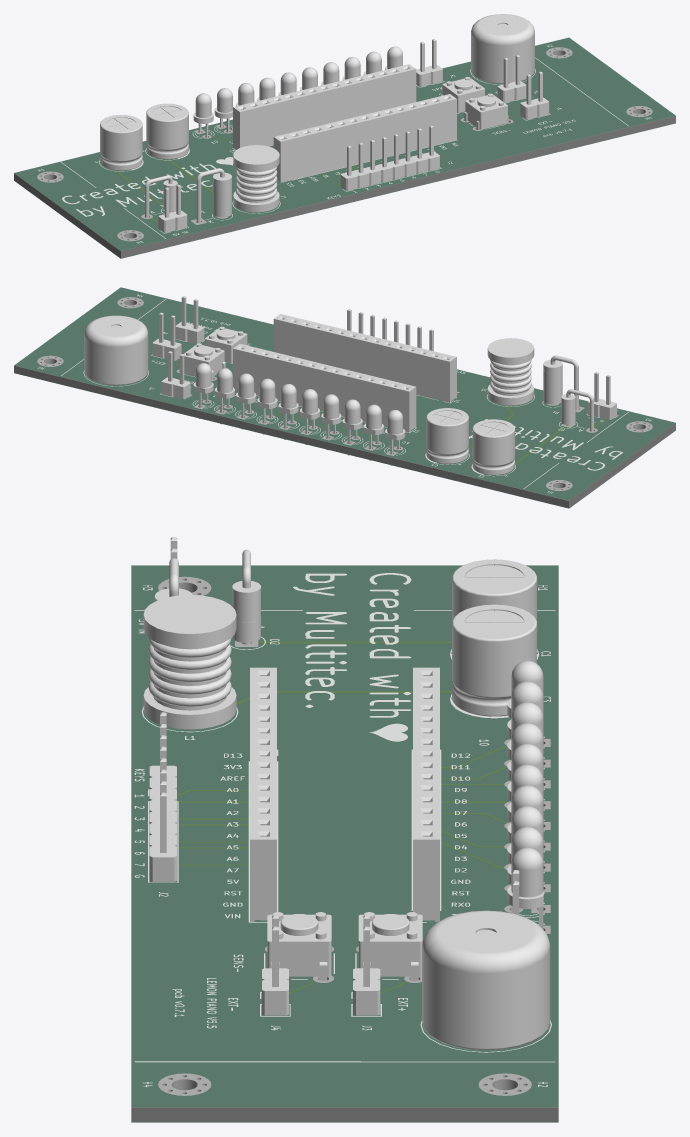
Rendered from lemon-piano-v0.7.1.glb.
3 views of the same model, one above another, from view 1: azimuth 30°, elevation 25°; view 2: azimuth 150°, elevation 25°; view 3: azimuth 270°, elevation 25° (orthographic). The views are drawn at different scales.
Visible parts, largest first — view 1: =>[0:1:1:23], =>[0:1:1:21], U1, U2, BUZ1, J2, L1, =>[0:1:1:19], C3, C1, =>[0:1:1:18], SW2 (+10 smaller); view 2: =>[0:1:1:23], =>[0:1:1:21], U1, U2, BUZ1, L1, C1, C3, =>[0:1:1:19], =>[0:1:1:18], D1, SW1 (+18 smaller); view 3: =>[0:1:1:21], =>[0:1:1:23], BUZ1, L1, =>[0:1:1:19], C3, U1, U2, =>[0:1:1:18], C1, J2, SW1 (+6 smaller).
Part boxes in pixels (<box>): =>[0:1:1:23]: <box>14,38,675,258</box>; =>[0:1:1:21]: <box>14,37,675,250</box>; U1: <box>273,94,456,182</box>; U2: <box>233,64,416,149</box>; BUZ1: <box>471,14,534,83</box>; J2: <box>340,125,439,190</box>; L1: <box>233,145,279,212</box>; =>[0:1:1:19]: <box>37,44,651,243</box>; C3: <box>146,103,188,159</box>; C1: <box>100,115,142,170</box>; =>[0:1:1:18]: <box>37,47,652,241</box>; SW2: <box>464,93,508,129</box>; =>[0:1:1:23]: <box>14,288,675,508</box>; =>[0:1:1:21]: <box>14,287,675,500</box>; U1: <box>273,314,456,402</box>; U2: <box>233,344,416,432</box>; BUZ1: <box>84,315,148,385</box>; L1: <box>487,338,534,405</box>; C1: <box>472,419,515,475</box>; C3: <box>426,408,468,463</box>; =>[0:1:1:19]: <box>37,294,651,493</box>; =>[0:1:1:18]: <box>37,297,652,490</box>; D1: <box>543,355,578,410</box>; SW1: <box>183,343,225,379</box>; =>[0:1:1:21]: <box>131,565,558,1107</box>; =>[0:1:1:23]: <box>131,566,558,1122</box>; BUZ1: <box>422,910,550,1050</box>; L1: <box>143,595,236,729</box>; =>[0:1:1:19]: <box>134,573,555,1087</box>; C3: <box>452,604,537,716</box>; U1: <box>250,667,276,921</box>; U2: <box>413,667,439,921</box>; =>[0:1:1:18]: <box>158,576,550,1095</box>; C1: <box>452,559,537,650</box>; J2: <box>149,712,176,881</box>; SW1: <box>358,912,422,980</box>.
Bounding box in the file's own units: 0.12 × 0.0135 × 0.04.
